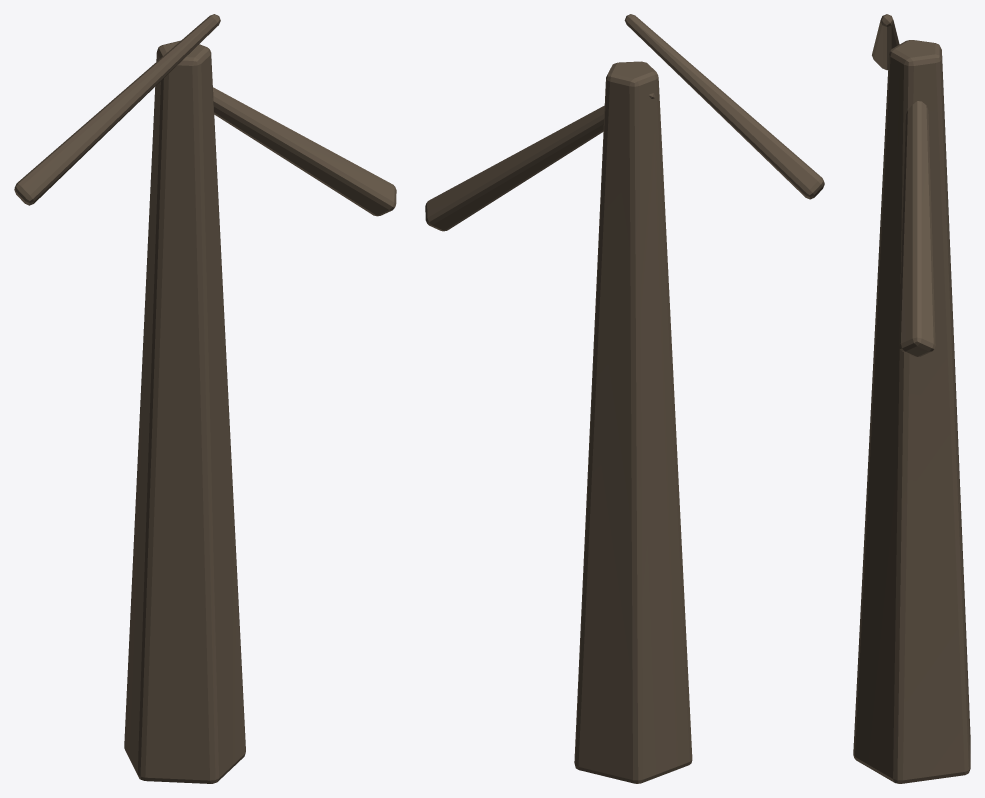
Rendered from prop_snag.glb.
3 views of the same model, side by side, from view 1: azimuth 30°, elevation 25°; view 2: azimuth 150°, elevation 25°; view 3: azimuth 270°, elevation 25° (orthographic). The views are drawn at different scales.
Parts seen in each view (by area): view 1: prop_snag_part_0; view 2: prop_snag_part_0; view 3: prop_snag_part_0.
Part boxes in pixels (x1=…): prop_snag_part_0: x1=14, y1=14, x2=396, y2=783; prop_snag_part_0: x1=425, y1=14, x2=824, y2=783; prop_snag_part_0: x1=853, y1=14, x2=970, y2=783.
Size of the model in its own units: 1.51 by 2.75 by 0.3892.
